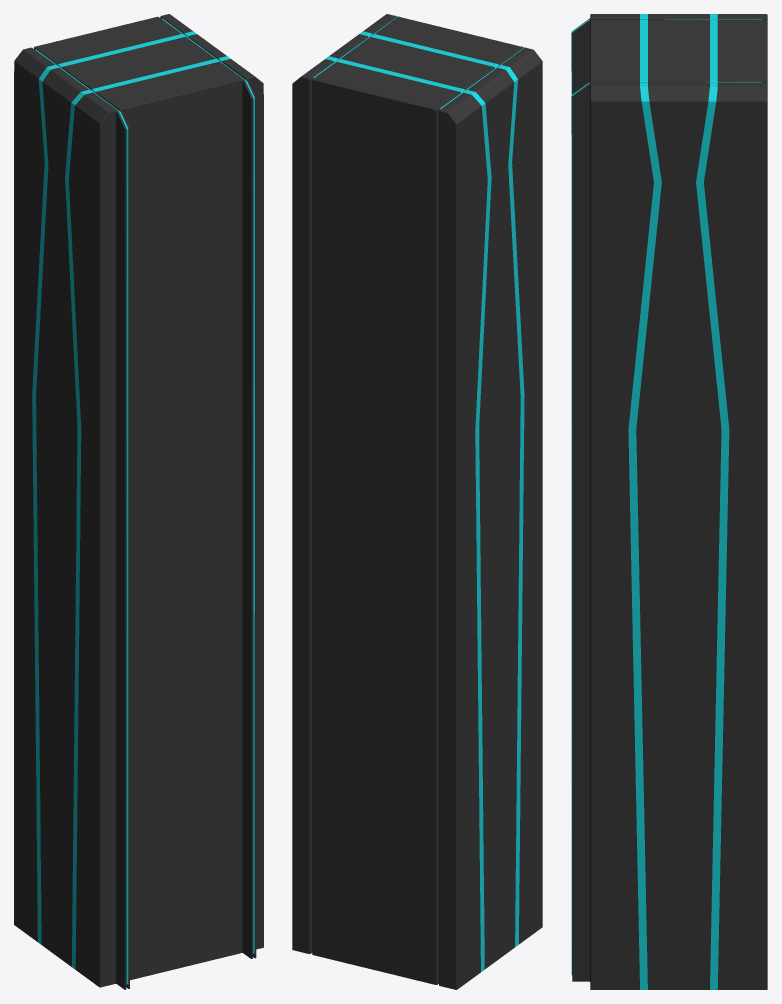
Rendered from _block.fbx.
3 renders of one model, left to right at view 1: azimuth 30°, elevation 25°; view 2: azimuth 150°, elevation 25°; view 3: azimuth 270°, elevation 25°, orthographic. The views are drawn at different scales.
Visible parts, largest first — view 1: _block; view 2: _block; view 3: _block.
Boxes of the visible parts, <box> form: _block: <box>14,14,263,989</box>; _block: <box>292,14,542,989</box>; _block: <box>571,14,767,989</box>.
Size of the model in its own units: 100 by 507 by 100.
